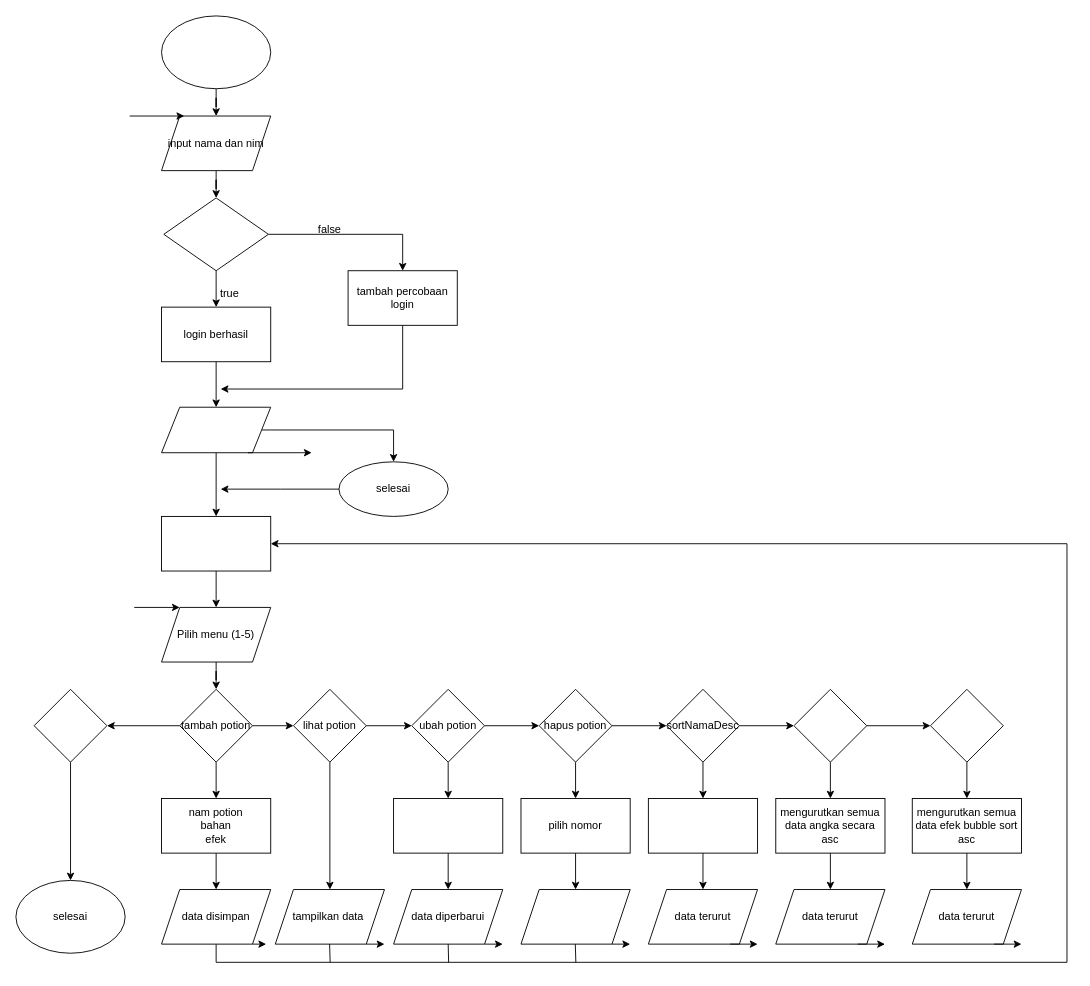
Some shapes in this 1090 by 986 pixel diagram are drawn without their labels. Each missing label, with the box of its shape:
data terhapus: (520, 889, 630, 944)
keluar: (33, 688, 107, 762)
mengurutkan semua data nama secara desc: (647, 798, 758, 853)
Mulai: (161, 15, 271, 89)
Nama dan Nim: (163, 197, 268, 271)
percobaan 3 kali: (161, 406, 271, 453)
PILIH MENUNYA: (161, 516, 271, 571)
pilih nama potion baru bahan baru efek baru: (393, 798, 503, 853)
sortPanjangAsc: (793, 688, 867, 762)
sorttEfekAsc: (930, 688, 1003, 762)
